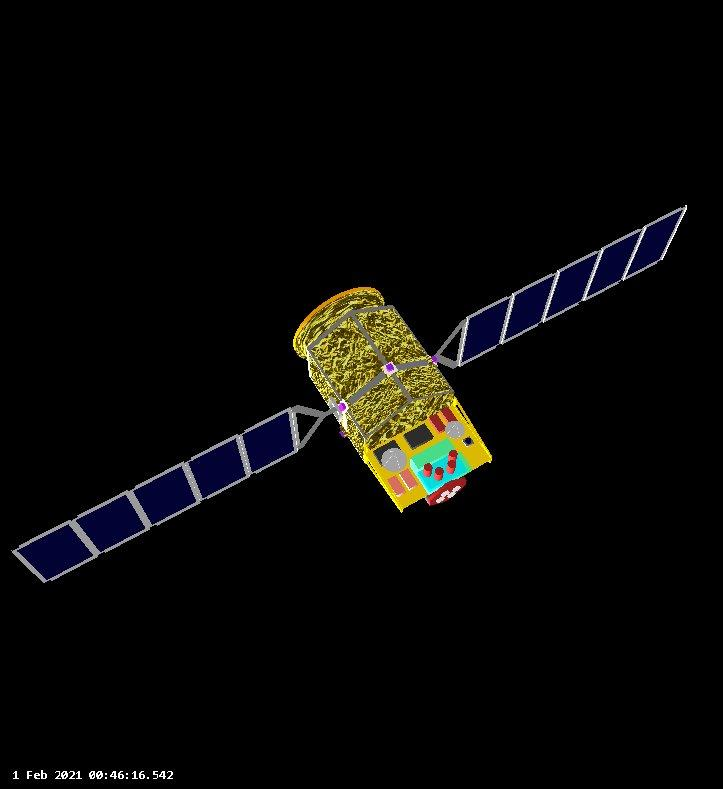antenna: (380, 445, 407, 472), (442, 419, 467, 439), (447, 491, 456, 499), (435, 496, 445, 503), (452, 485, 461, 492), (441, 490, 450, 497)
body: (307, 304, 494, 513)
solar: (14, 403, 302, 588), (457, 200, 688, 369)
thruster: (294, 283, 387, 362), (338, 402, 347, 411), (431, 354, 439, 364), (386, 363, 394, 373), (338, 431, 346, 438)
